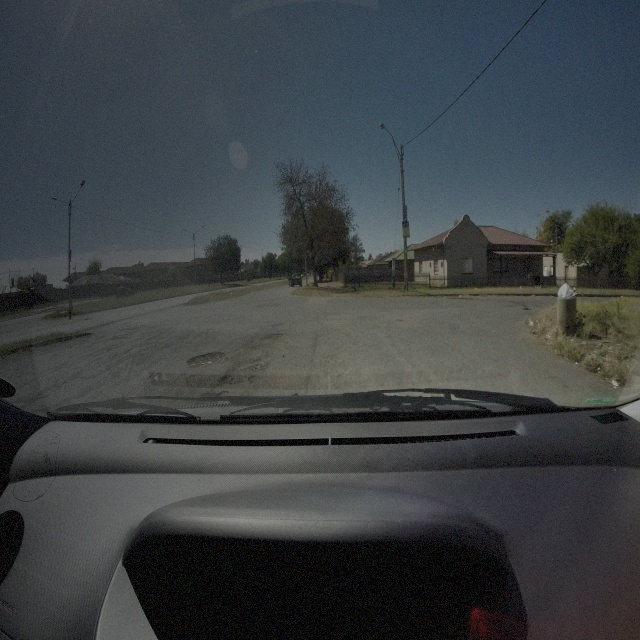pothole: (189, 346, 227, 367), (247, 374, 264, 386), (221, 374, 236, 385)
